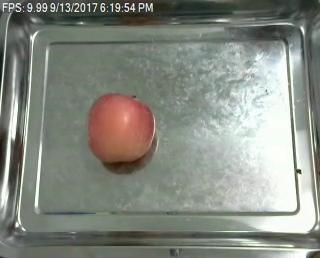apple: (88, 92, 156, 162)
